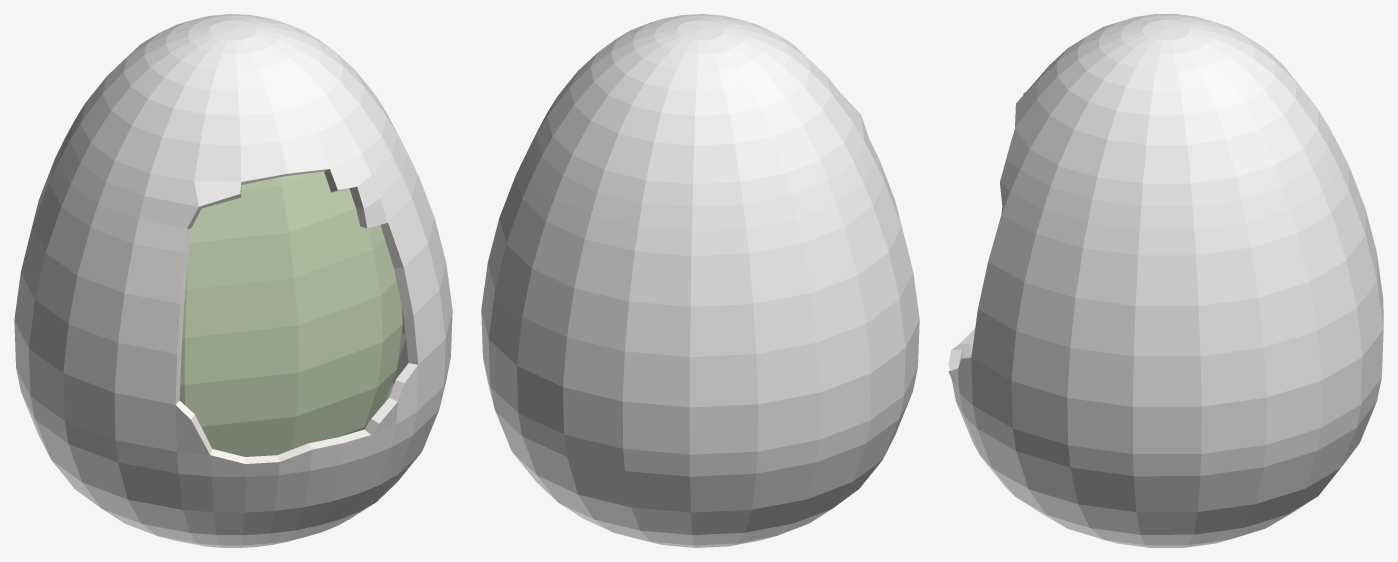
File: Isl_4_Dragon_Egg.fbx
The picture shows the model from 3 angles, left to right: view 1: azimuth 30°, elevation 25°; view 2: azimuth 150°, elevation 25°; view 3: azimuth 270°, elevation 25°; orthographic projection.
Visible parts, largest first — view 1: Isl_4_Dragon_Egg; view 2: Isl_4_Dragon_Egg; view 3: Isl_4_Dragon_Egg.
Boxes of the visible parts, bbox=[...] form: Isl_4_Dragon_Egg: bbox=[14, 14, 452, 547]; Isl_4_Dragon_Egg: bbox=[481, 14, 919, 547]; Isl_4_Dragon_Egg: bbox=[948, 14, 1383, 547].
Bounding box in the file's own units: 68.5 × 68.64 × 86.11.
Materials: 1 (1 with a texture image).
